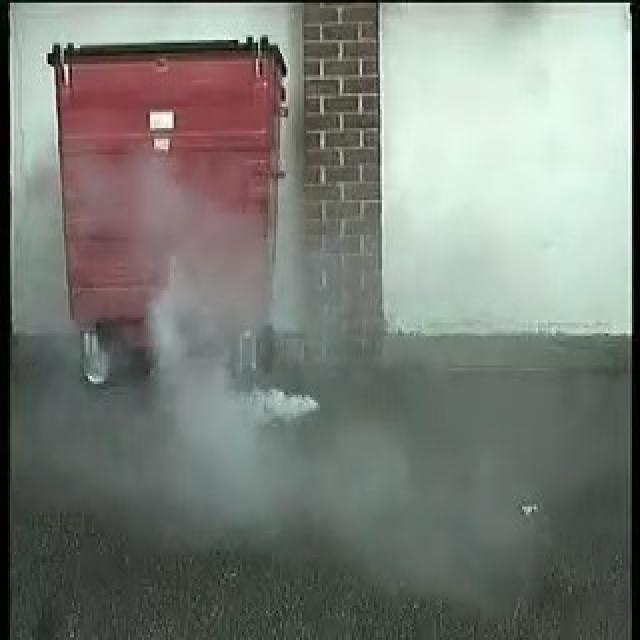smoke: (147, 267, 325, 431)
